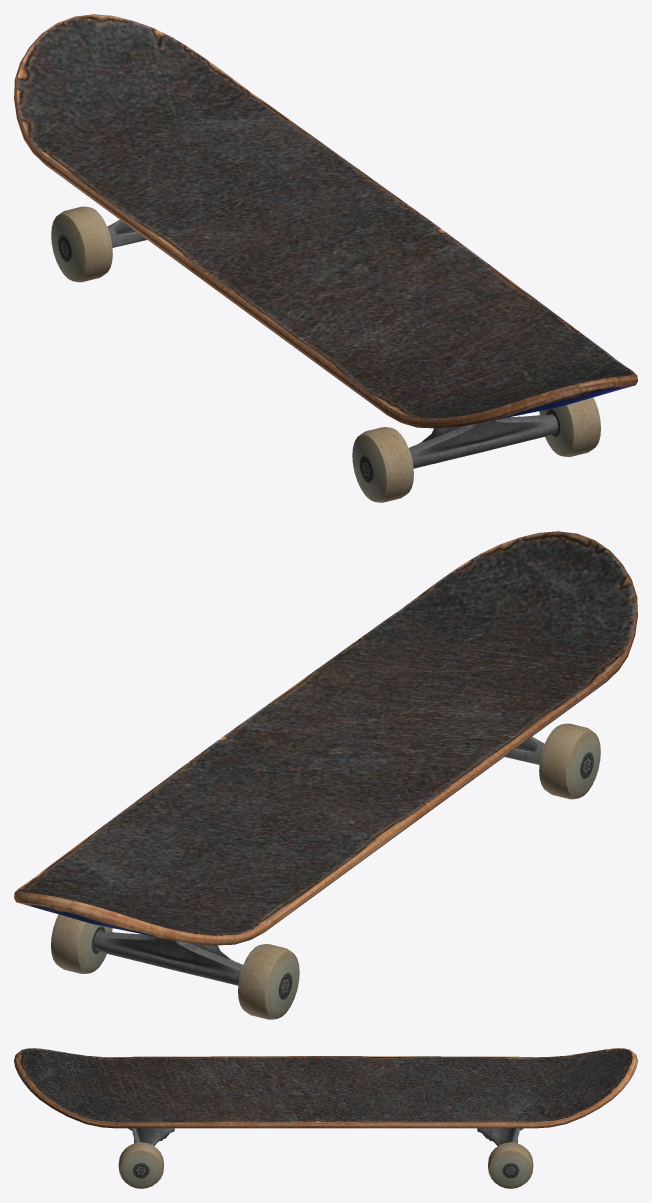
File: skate.glb
The picture shows the model from 3 angles, top to bottom: view 1: azimuth 30°, elevation 25°; view 2: azimuth 150°, elevation 25°; view 3: azimuth 270°, elevation 25°; orthographic projection. The views are drawn at different scales.
Parts seen in each view (by area): view 1: Skate; view 2: Skate; view 3: Skate.
Boxes of the visible parts, x1,y1,x2,y2 form: Skate: [14, 14, 637, 502]; Skate: [14, 531, 637, 1019]; Skate: [14, 1048, 637, 1188].
Size of the model in its own units: 0.5317 by 0.3694 by 2.07.
2 materials, 2 textured.
